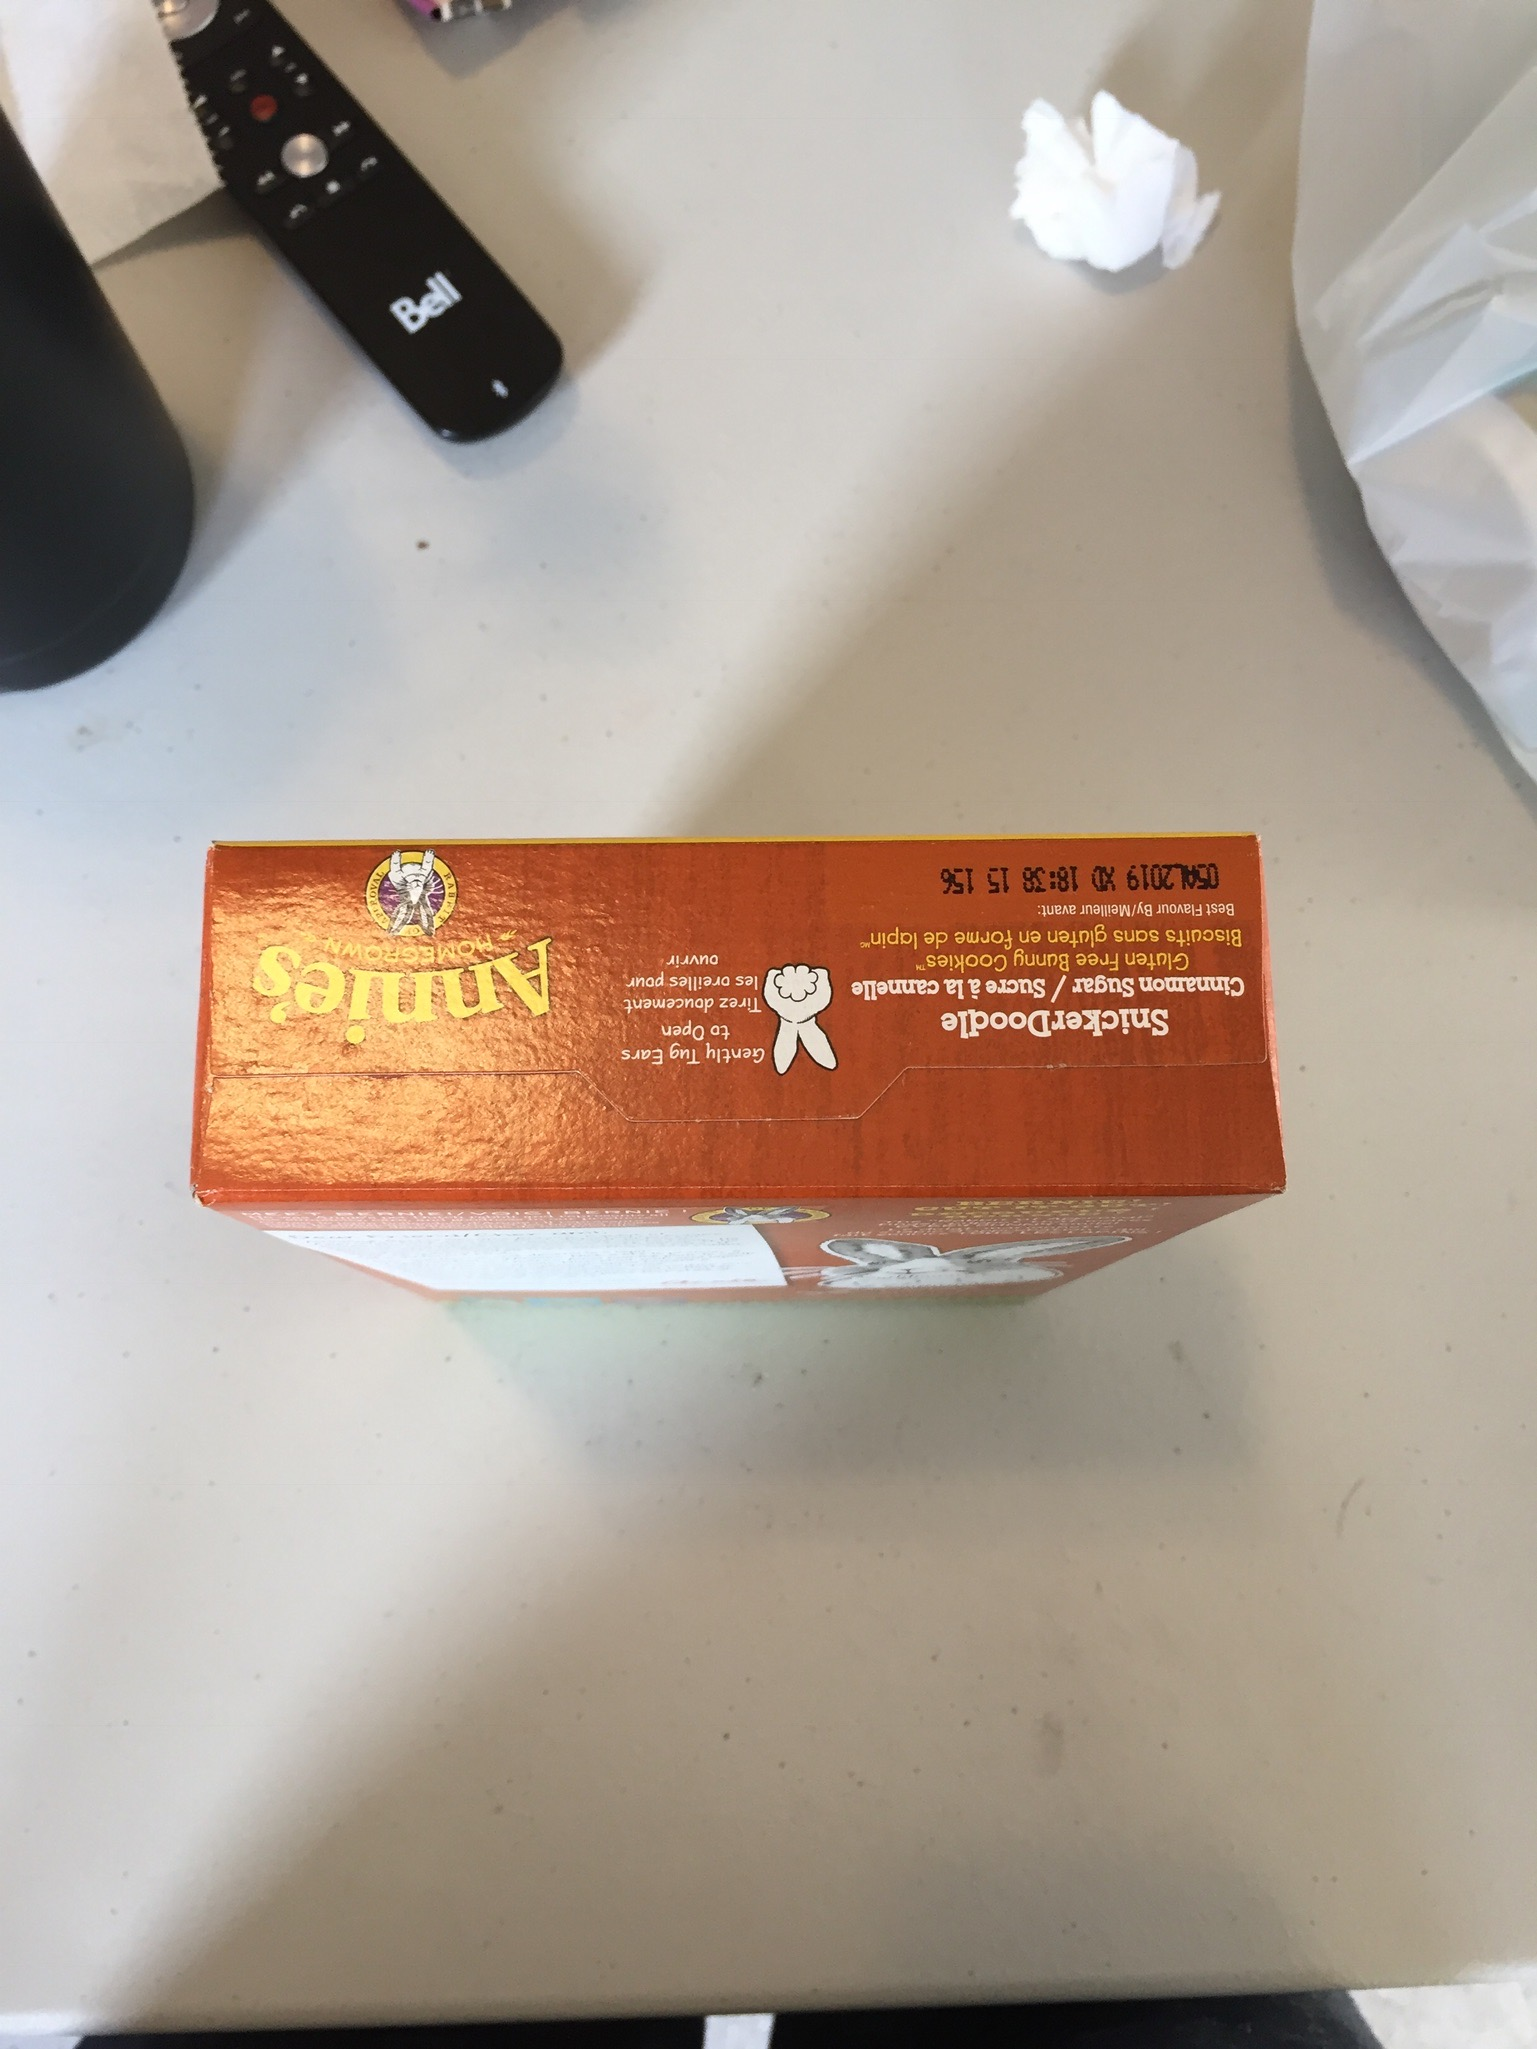annies_snickerdoodle_cinnamon_sugar: (215, 849, 1254, 1177)
